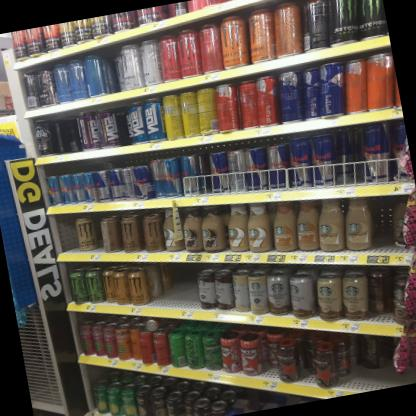empty_space: (369, 194, 393, 254), (392, 337, 416, 387), (139, 261, 164, 308), (177, 261, 201, 309), (53, 213, 79, 253), (160, 262, 181, 309)
